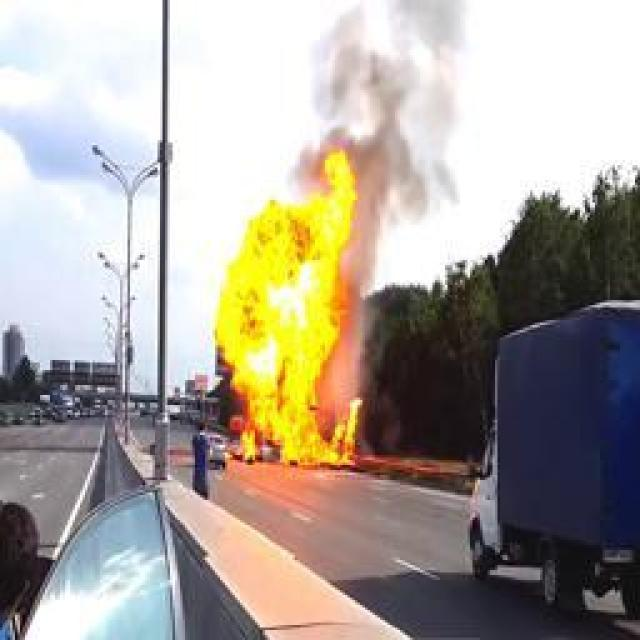Fire: (220, 144, 362, 466)
